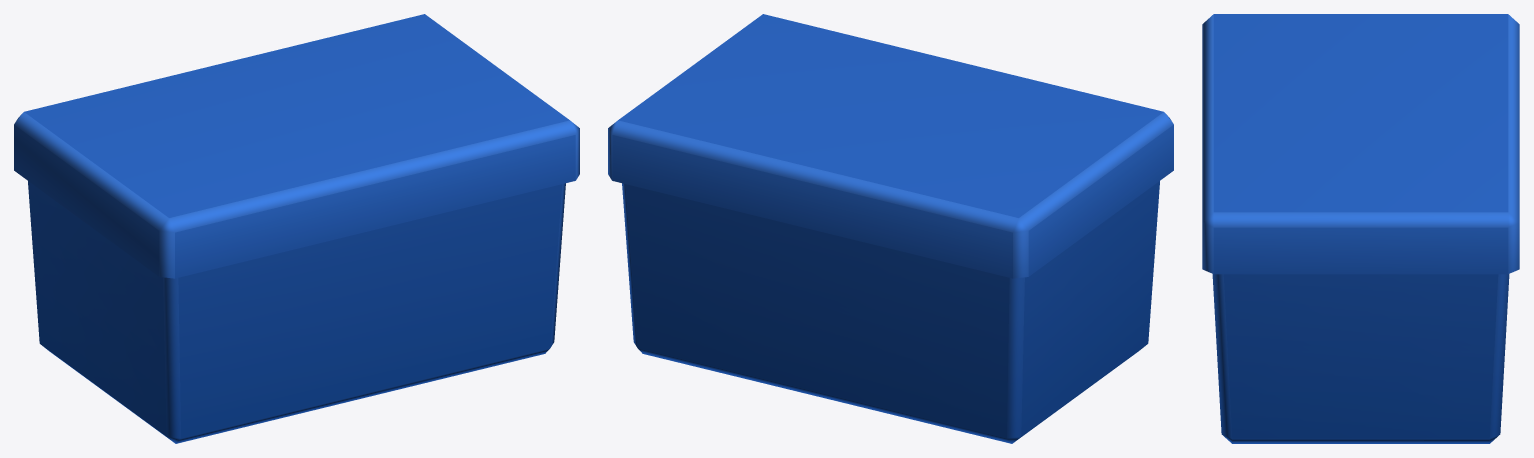
Rendered from giftbox_047.fbx.
3 views of the same model, side by side, from view 1: azimuth 30°, elevation 25°; view 2: azimuth 150°, elevation 25°; view 3: azimuth 270°, elevation 25° (orthographic).
Visible parts, largest first — view 1: giftbox_047; view 2: giftbox_047; view 3: giftbox_047.
Part boxes in pixels (x1,y1,x2,y2): giftbox_047: (14, 14, 579, 443); giftbox_047: (608, 14, 1173, 443); giftbox_047: (1202, 14, 1519, 443).
Bounding box in the file's own units: 394 × 254 × 212.
